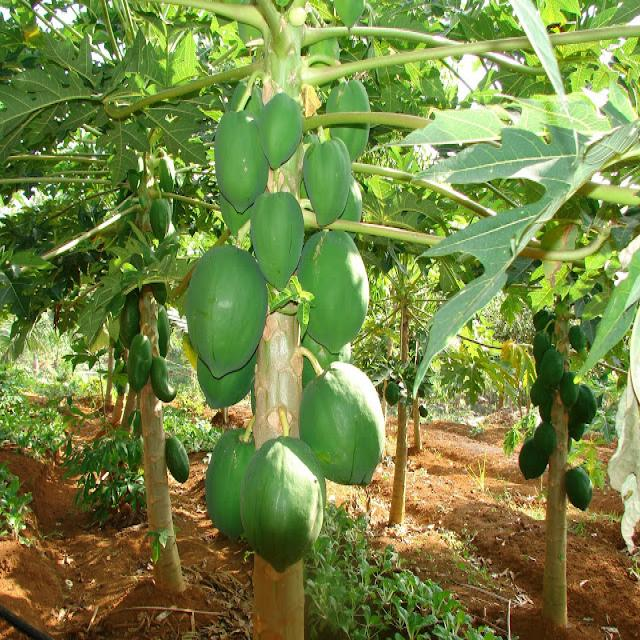Pepaya unrippen: (184, 239, 265, 385), (305, 365, 385, 491), (246, 440, 325, 567), (305, 235, 376, 361), (195, 432, 259, 568), (214, 110, 260, 214), (251, 195, 304, 285), (309, 139, 355, 233), (260, 95, 306, 165), (160, 437, 197, 484), (562, 465, 594, 511), (154, 355, 181, 405), (125, 340, 151, 391), (519, 440, 546, 479)
